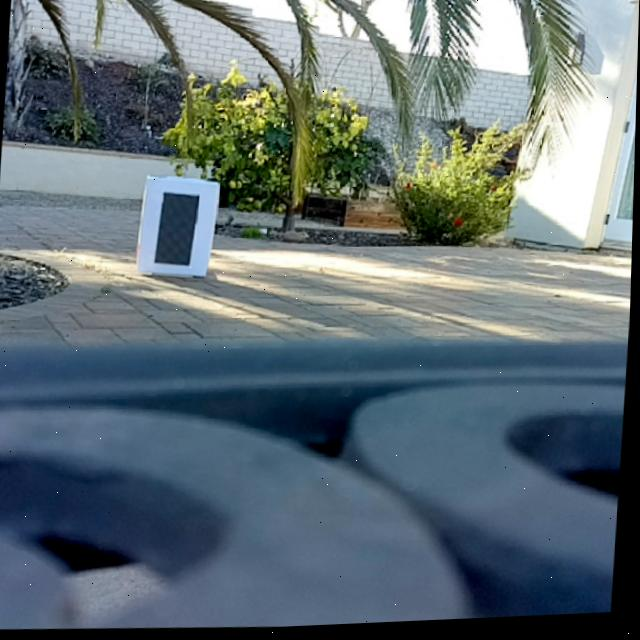led: (155, 189, 202, 270)
